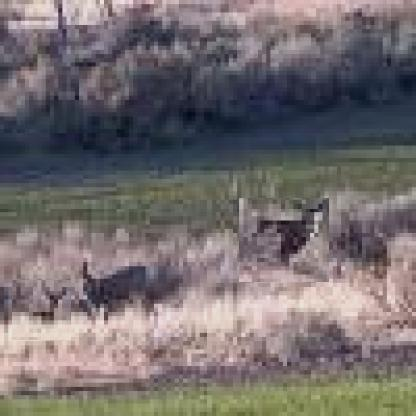Deer: (239, 198, 329, 282), (75, 258, 157, 324), (12, 280, 71, 340)
